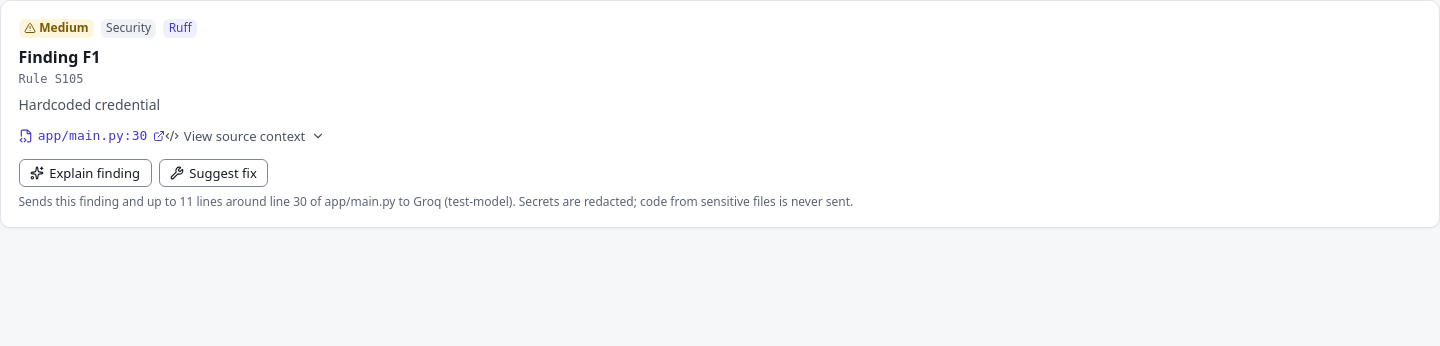
Scenario: finding AI (B5) › suggests a fix on request
This screenshot has width=1440, height=346.
Click the button "Suggest fix".
click(213, 173)  # box [158,159,268,187]
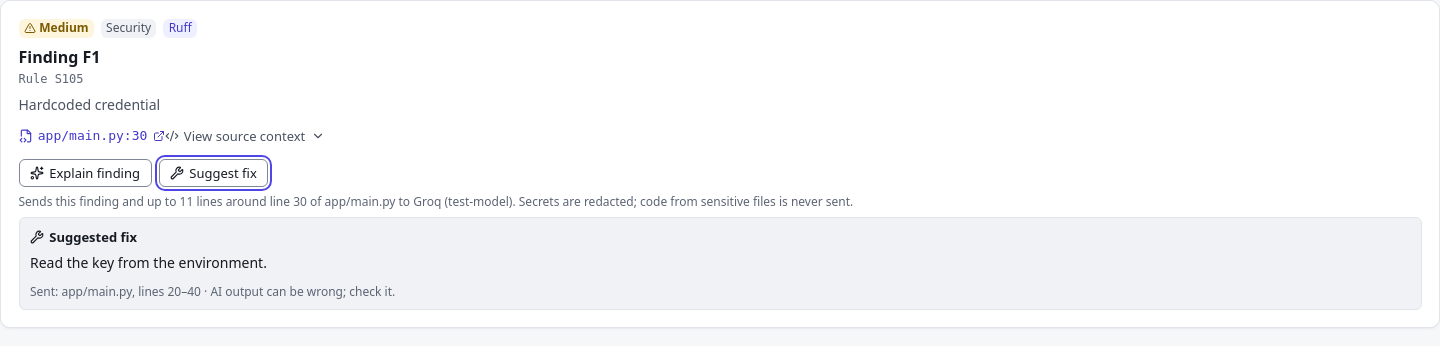
Check: the element "Suggested fix" shows "Read the key from the environment.", box [30,253,267,272]
